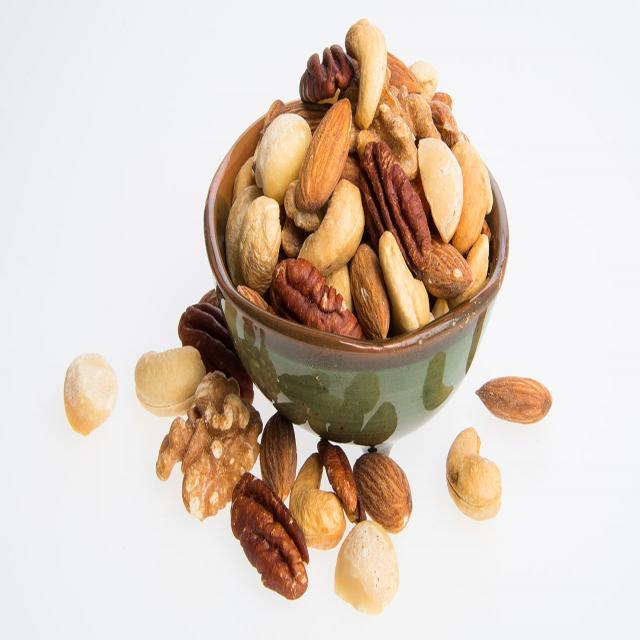Frutta secca: (223, 16, 505, 352)
